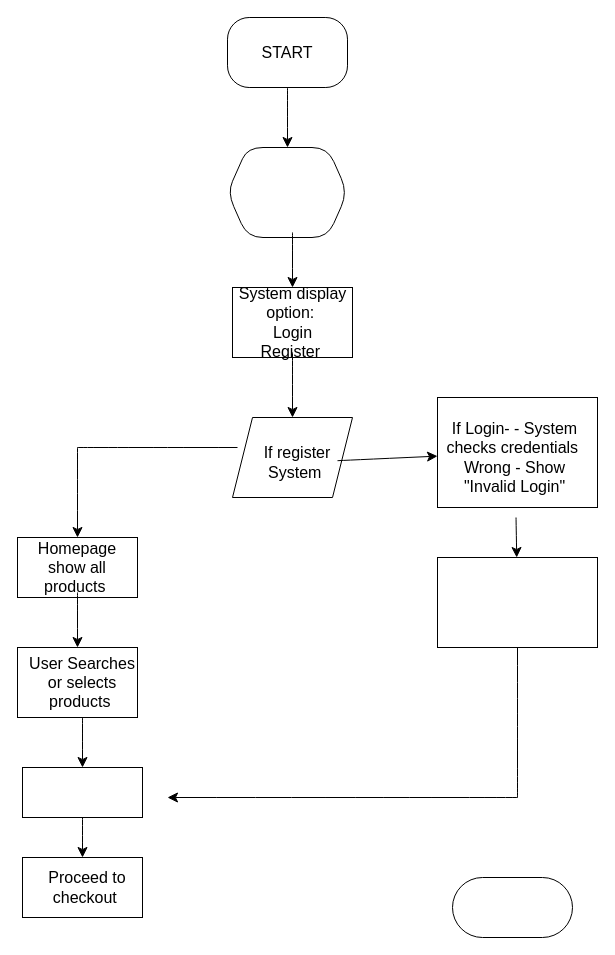
Image size: 615x955. Some labels were removed from this diagram. The shapes that lost their labels are listed below. From the top down, each one's centre as x and y in pixels, then its label:
At point (287, 192): "User open SmartShop app/website".
At point (517, 602): "Choose payment method (e.g.Gcash/ COD)".
At point (82, 792): "Add to Cart".
At point (512, 907): "END".
